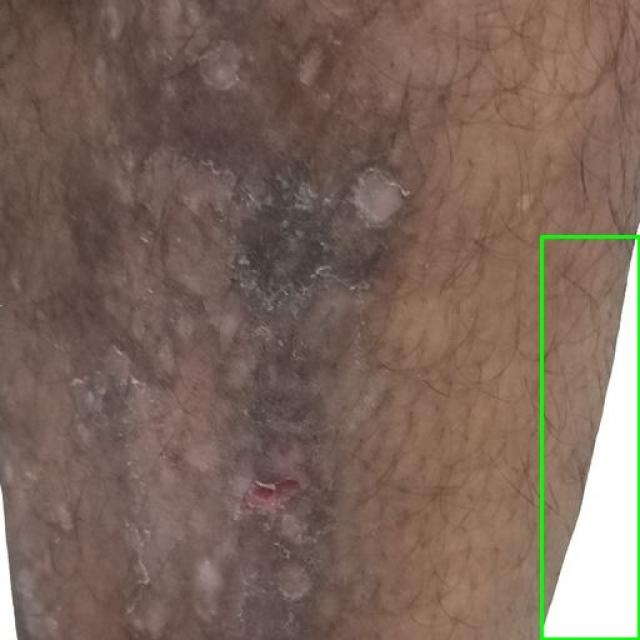Eczema: (541, 236, 639, 639)
